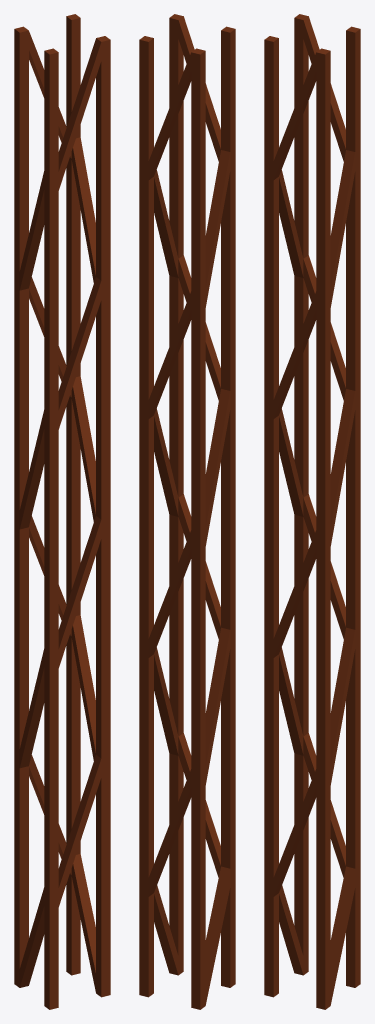
File: Poutre.fbx
3 views of the same model, side by side, from view 1: azimuth 30°, elevation 25°; view 2: azimuth 150°, elevation 25°; view 3: azimuth 330°, elevation 25° (orthographic).
Visible parts, largest first — view 1: Colonne; view 2: Colonne; view 3: Colonne.
Boxes of the visible parts, x1,y1,x2,y2 form: Colonne: (14, 14, 110, 1009); Colonne: (139, 14, 235, 1009); Colonne: (264, 14, 360, 1009).
Bounding box in the file's own units: 100 × 1500 × 100.
